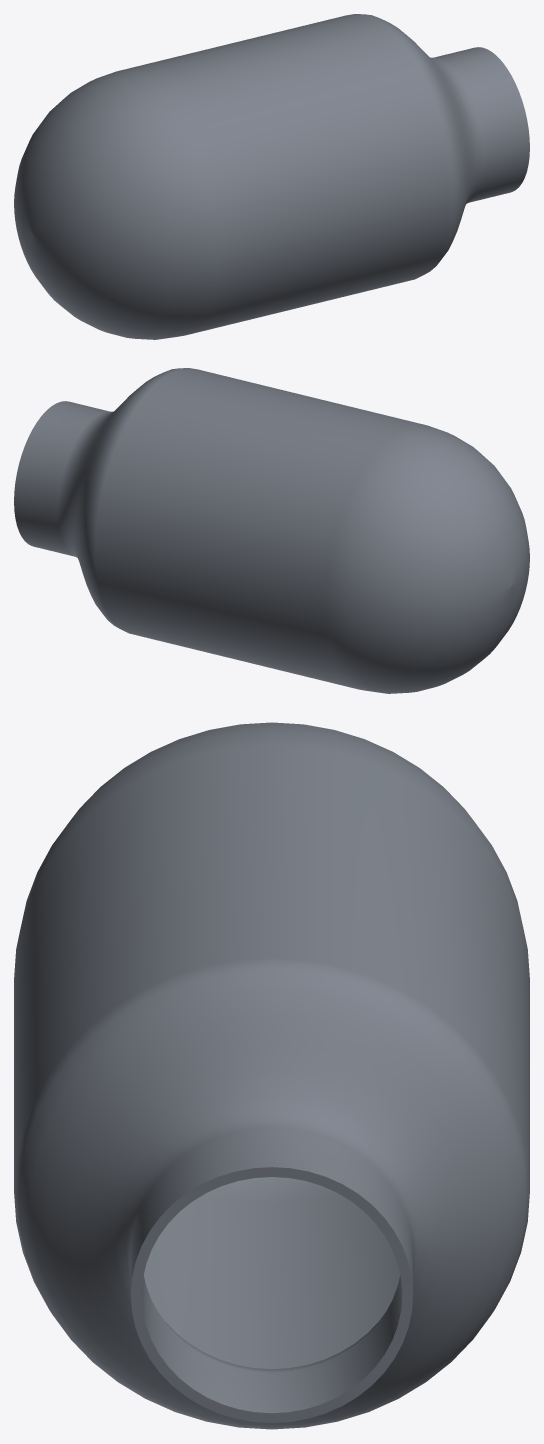
Rendered from jar_side.obj.
The picture shows the model from 3 angles, top to bottom: view 1: azimuth 30°, elevation 25°; view 2: azimuth 150°, elevation 25°; view 3: azimuth 270°, elevation 25°; orthographic projection. The views are drawn at different scales.
Visible parts, largest first — view 1: jar_side; view 2: jar_side; view 3: jar_side.
Boxes of the visible parts, bbox=[...] form: jar_side: bbox=[14, 14, 529, 339]; jar_side: bbox=[14, 368, 529, 693]; jar_side: bbox=[14, 722, 529, 1429].
Size of the model in its own units: 0.37 by 0.19 by 0.19.
1 material, 1 textured.
